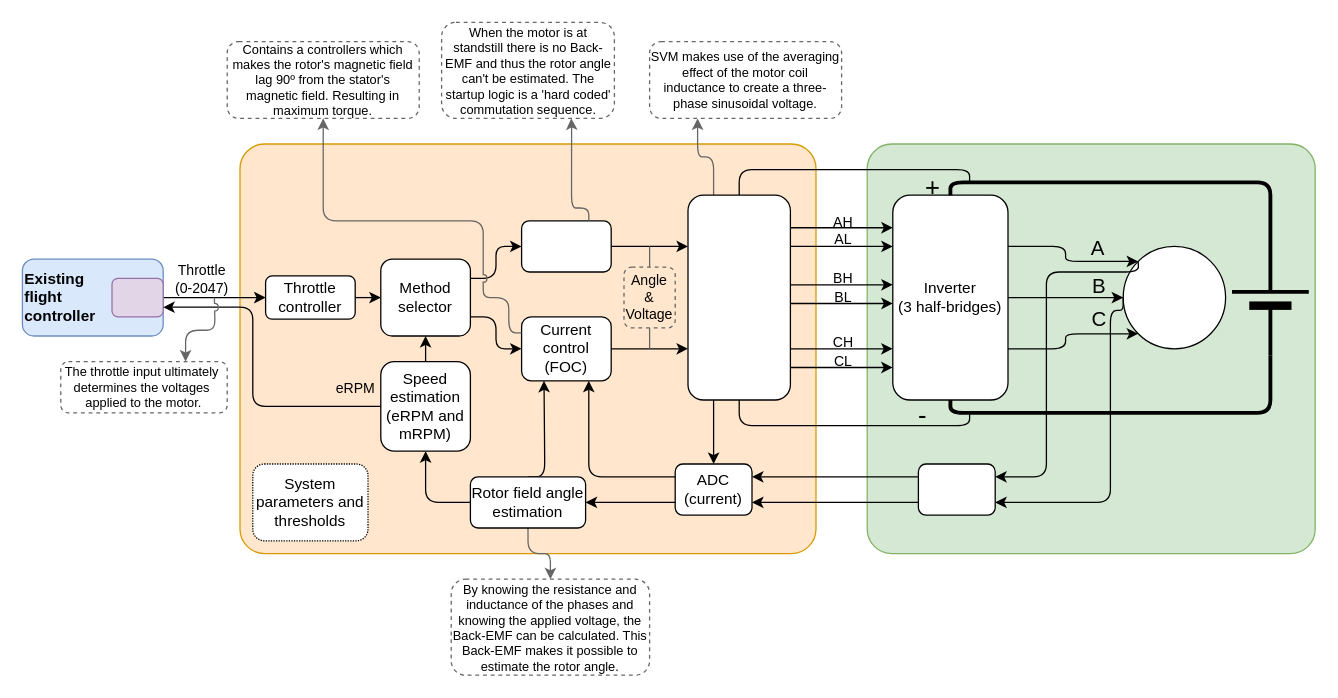
The diagram is 1338 pixels wide and 698 high, and some of its shapes have lost their labels. Each missing label, with the box of its shape:
BLDC: (1122, 245, 1226, 349)
DShot: (111, 277, 163, 317)
Hardware: (866, 143, 1315, 554)
Shunt resistor(s): (917, 463, 995, 515)
Software: (239, 143, 816, 554)
Space Vector Modulation (SVM): (687, 194, 790, 400)
Startup logic: (520, 220, 611, 272)
